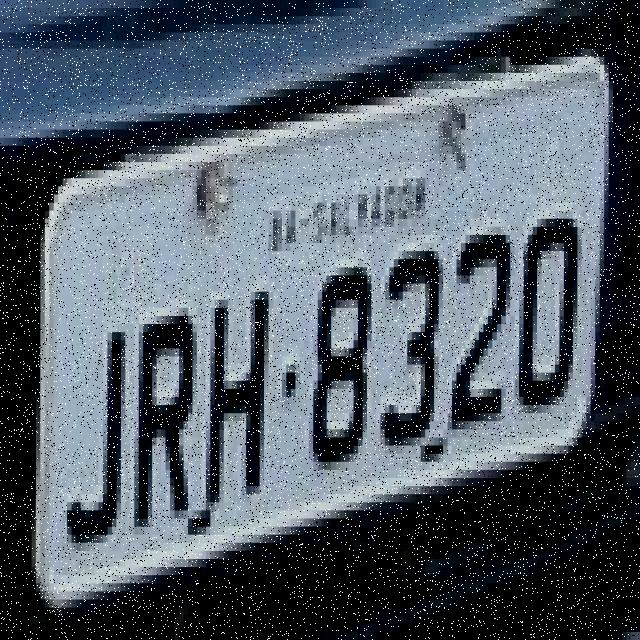licenseplate: (18, 34, 627, 608)
